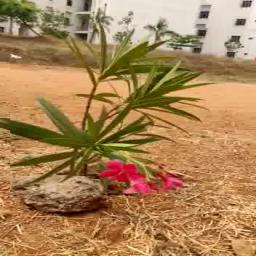OLEANDER: (10, 28, 226, 194)
